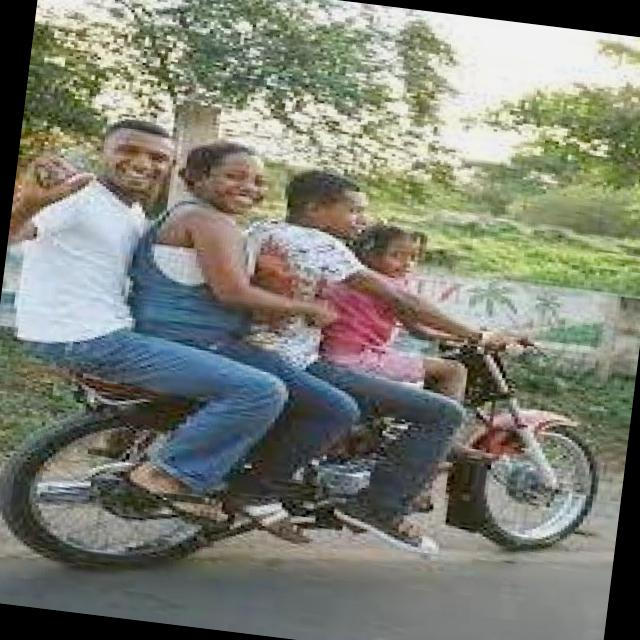motorcycle: (0, 270, 623, 640)
person: (22, 103, 251, 442), (128, 132, 322, 415), (326, 219, 509, 464), (234, 160, 390, 418)
rider_region: (0, 99, 638, 632)
